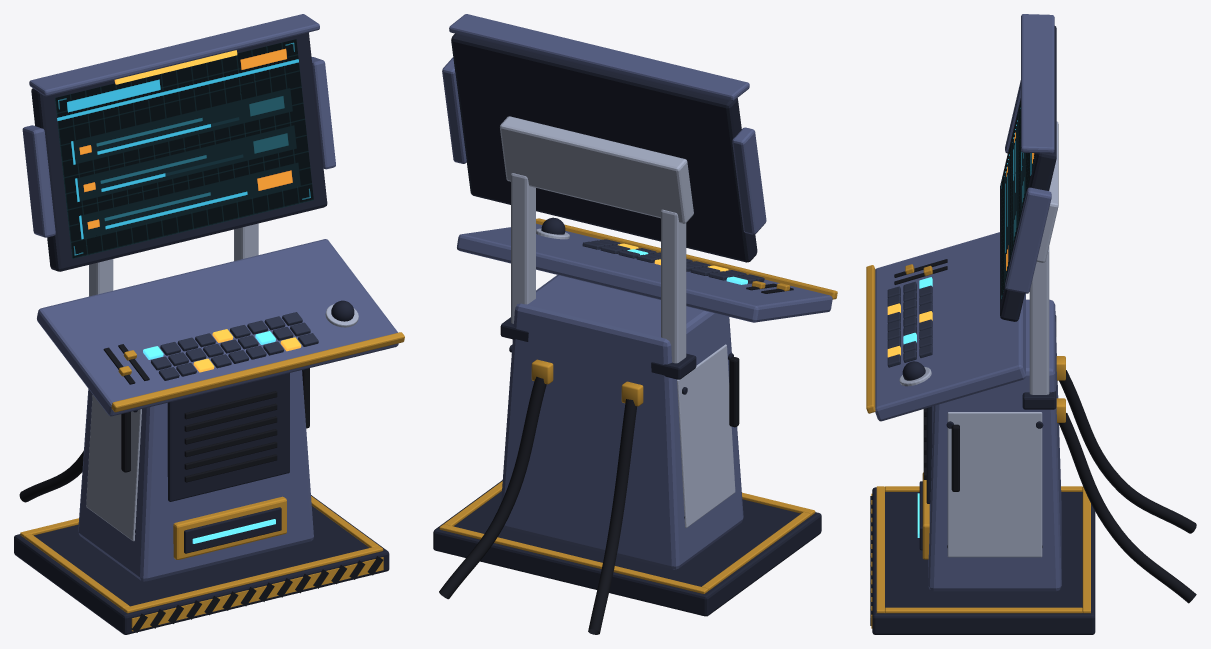
File: workshop_terminal.glb
3 views of the same model, side by side, from view 1: azimuth 30°, elevation 25°; view 2: azimuth 150°, elevation 25°; view 3: azimuth 270°, elevation 25° (orthographic). The views are drawn at different scales.
Parts seen in each view (by area): view 1: Screen, Desk, Pedestal, Plinth, FrontPanel, Bezel, Visor, SidePanel-1, DeskLip, BezelEar-1, HatchFrame, HazardBand (+16 smaller); view 2: Pedestal, Bezel, Plinth, Mount, Desk, SidePanel-1, Visor, Strut-1, Cable1, Strut1, Cable-1, BezelEar-1 (+6 smaller); view 3: Desk, Plinth, SidePanel1, Pedestal, Visor, Cable1, Screen, BezelEar1, Strut1, Cable-1, Bezel, DeskLip (+8 smaller).
Boxes of the visible parts, x1,y1,x2,y2 form: Screen: (55, 39, 313, 258); Desk: (37, 239, 398, 416); Pedestal: (78, 370, 313, 581); Plinth: (14, 495, 389, 634); FrontPanel: (167, 373, 289, 501); Bezel: (31, 32, 327, 271); Visor: (29, 14, 319, 96); SidePanel-1: (86, 394, 141, 541); DeskLip: (111, 332, 404, 412); BezelEar-1: (22, 125, 55, 237); HatchFrame: (173, 496, 286, 559); HazardBand: (131, 557, 383, 631); Pedestal: (501, 275, 743, 569); Bezel: (451, 33, 757, 262); Plinth: (433, 480, 821, 616); Mount: (500, 116, 693, 223); Desk: (457, 223, 832, 322); SidePanel-1: (677, 344, 735, 527); Visor: (449, 14, 749, 100); Strut-1: (661, 209, 686, 363); Cable1: (439, 376, 546, 599); Strut1: (511, 173, 535, 323); Cable-1: (588, 399, 637, 634); BezelEar-1: (732, 127, 766, 234); Desk: (875, 232, 1025, 421); Plinth: (872, 487, 1095, 634); SidePanel1: (947, 412, 1042, 557); Pedestal: (928, 299, 1061, 591); Visor: (1021, 14, 1054, 153); Cable1: (1058, 413, 1196, 603); Screen: (1001, 101, 1035, 301); BezelEar1: (1005, 187, 1051, 293); Strut1: (1029, 246, 1049, 394); Cable-1: (1059, 370, 1196, 533); Bezel: (1000, 26, 1056, 321); DeskLip: (866, 265, 875, 413).
Size of the model in its own units: 1.21 by 1.94 by 1.19.
Materials: 9 (1 with a texture image).
